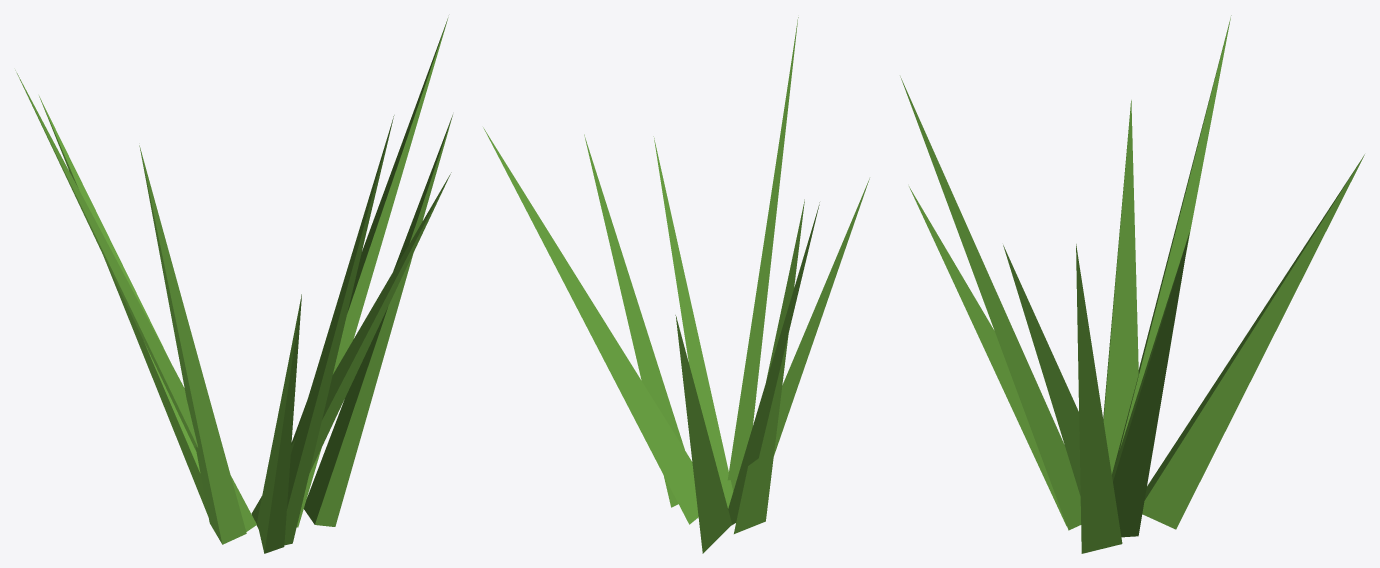
File: HS_LP_Grass_Tall_01.fbx
3 views of the same model, side by side, from view 1: azimuth 30°, elevation 25°; view 2: azimuth 150°, elevation 25°; view 3: azimuth 270°, elevation 25° (orthographic). The views are drawn at different scales.
Parts seen in each view (by area): view 1: HS_LP_Grass_Tall_01; view 2: HS_LP_Grass_Tall_01; view 3: HS_LP_Grass_Tall_01.
Boxes of the visible parts, left/top/right/bottom form: HS_LP_Grass_Tall_01: left=15, top=17, right=452, bottom=553; HS_LP_Grass_Tall_01: left=483, top=17, right=869, bottom=553; HS_LP_Grass_Tall_01: left=900, top=15, right=1364, bottom=553.
Bounding box in the file's own units: 44.6 × 52.21 × 46.65.
